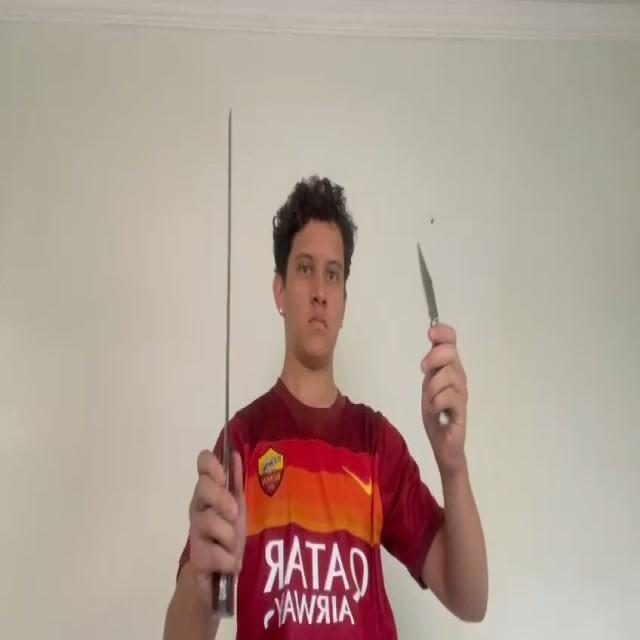knife: (417, 244, 437, 312)
